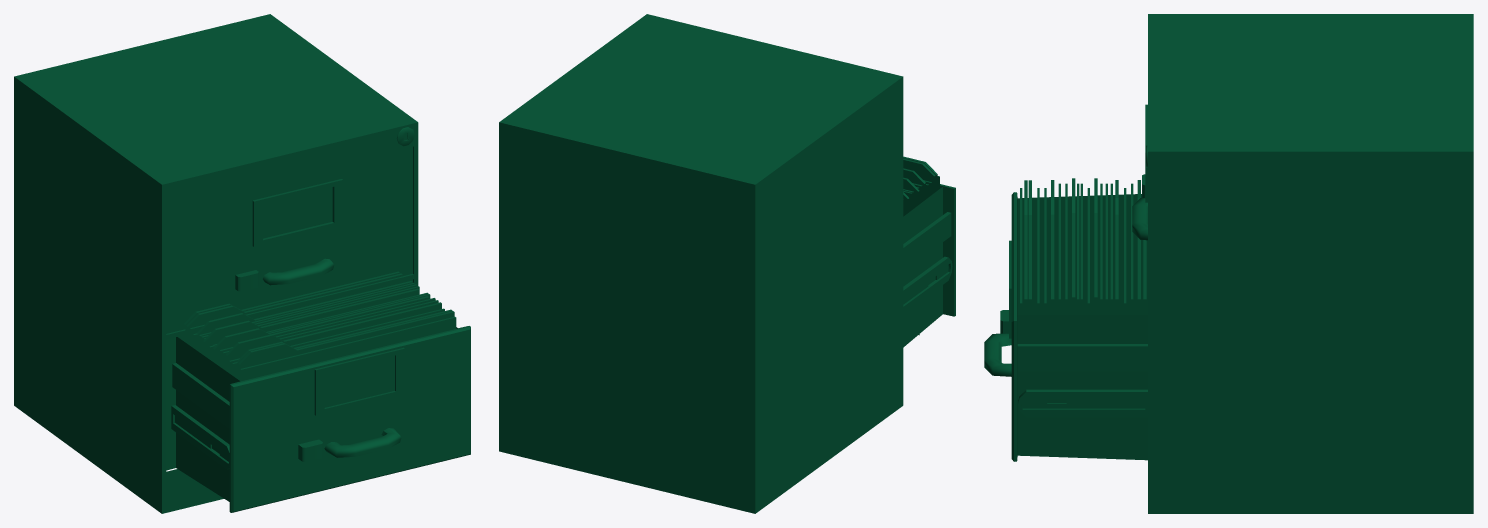
The model's file is smallOpenCabinet.fbx.
3 renders of one model, left to right at view 1: azimuth 30°, elevation 25°; view 2: azimuth 150°, elevation 25°; view 3: azimuth 270°, elevation 25°, orthographic. The views are drawn at different scales.
Parts seen in each view (by area): view 1: smallopen; view 2: smallopen; view 3: smallopen.
Part boxes in pixels (<box>): smallopen: <box>14,14,470,513</box>; smallopen: <box>499,14,955,513</box>; smallopen: <box>984,14,1473,513</box>.
Size of the model in its own units: 74.59 by 91.53 by 112.
